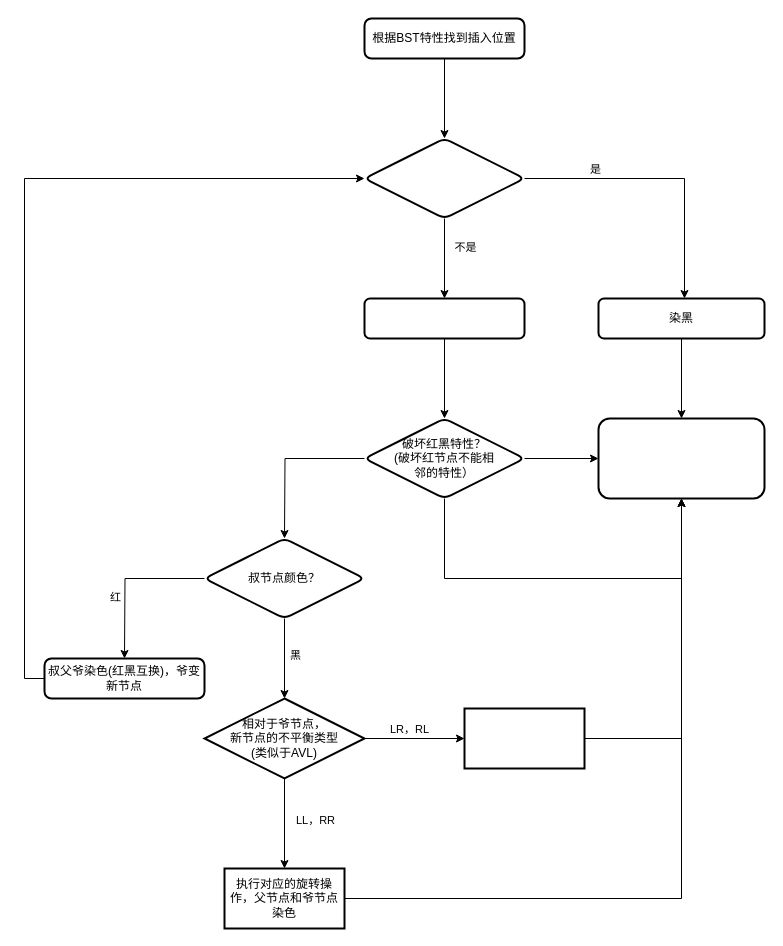
Some shapes in this 783 by 946 pixel diagram are drawn without their labels. Here are the shapes that lost their labels. From the top down, the centre of each, then its label:
[444,178]: 新节点是根节点？
[444,318]: 染红
[681,458]: 结束
[524,738]: 执行对应的旋转操作，子节点和爷节点染色
